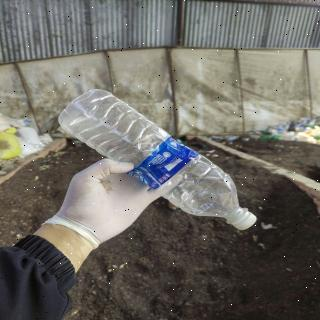Plastic-bottle: (54, 84, 262, 236)
